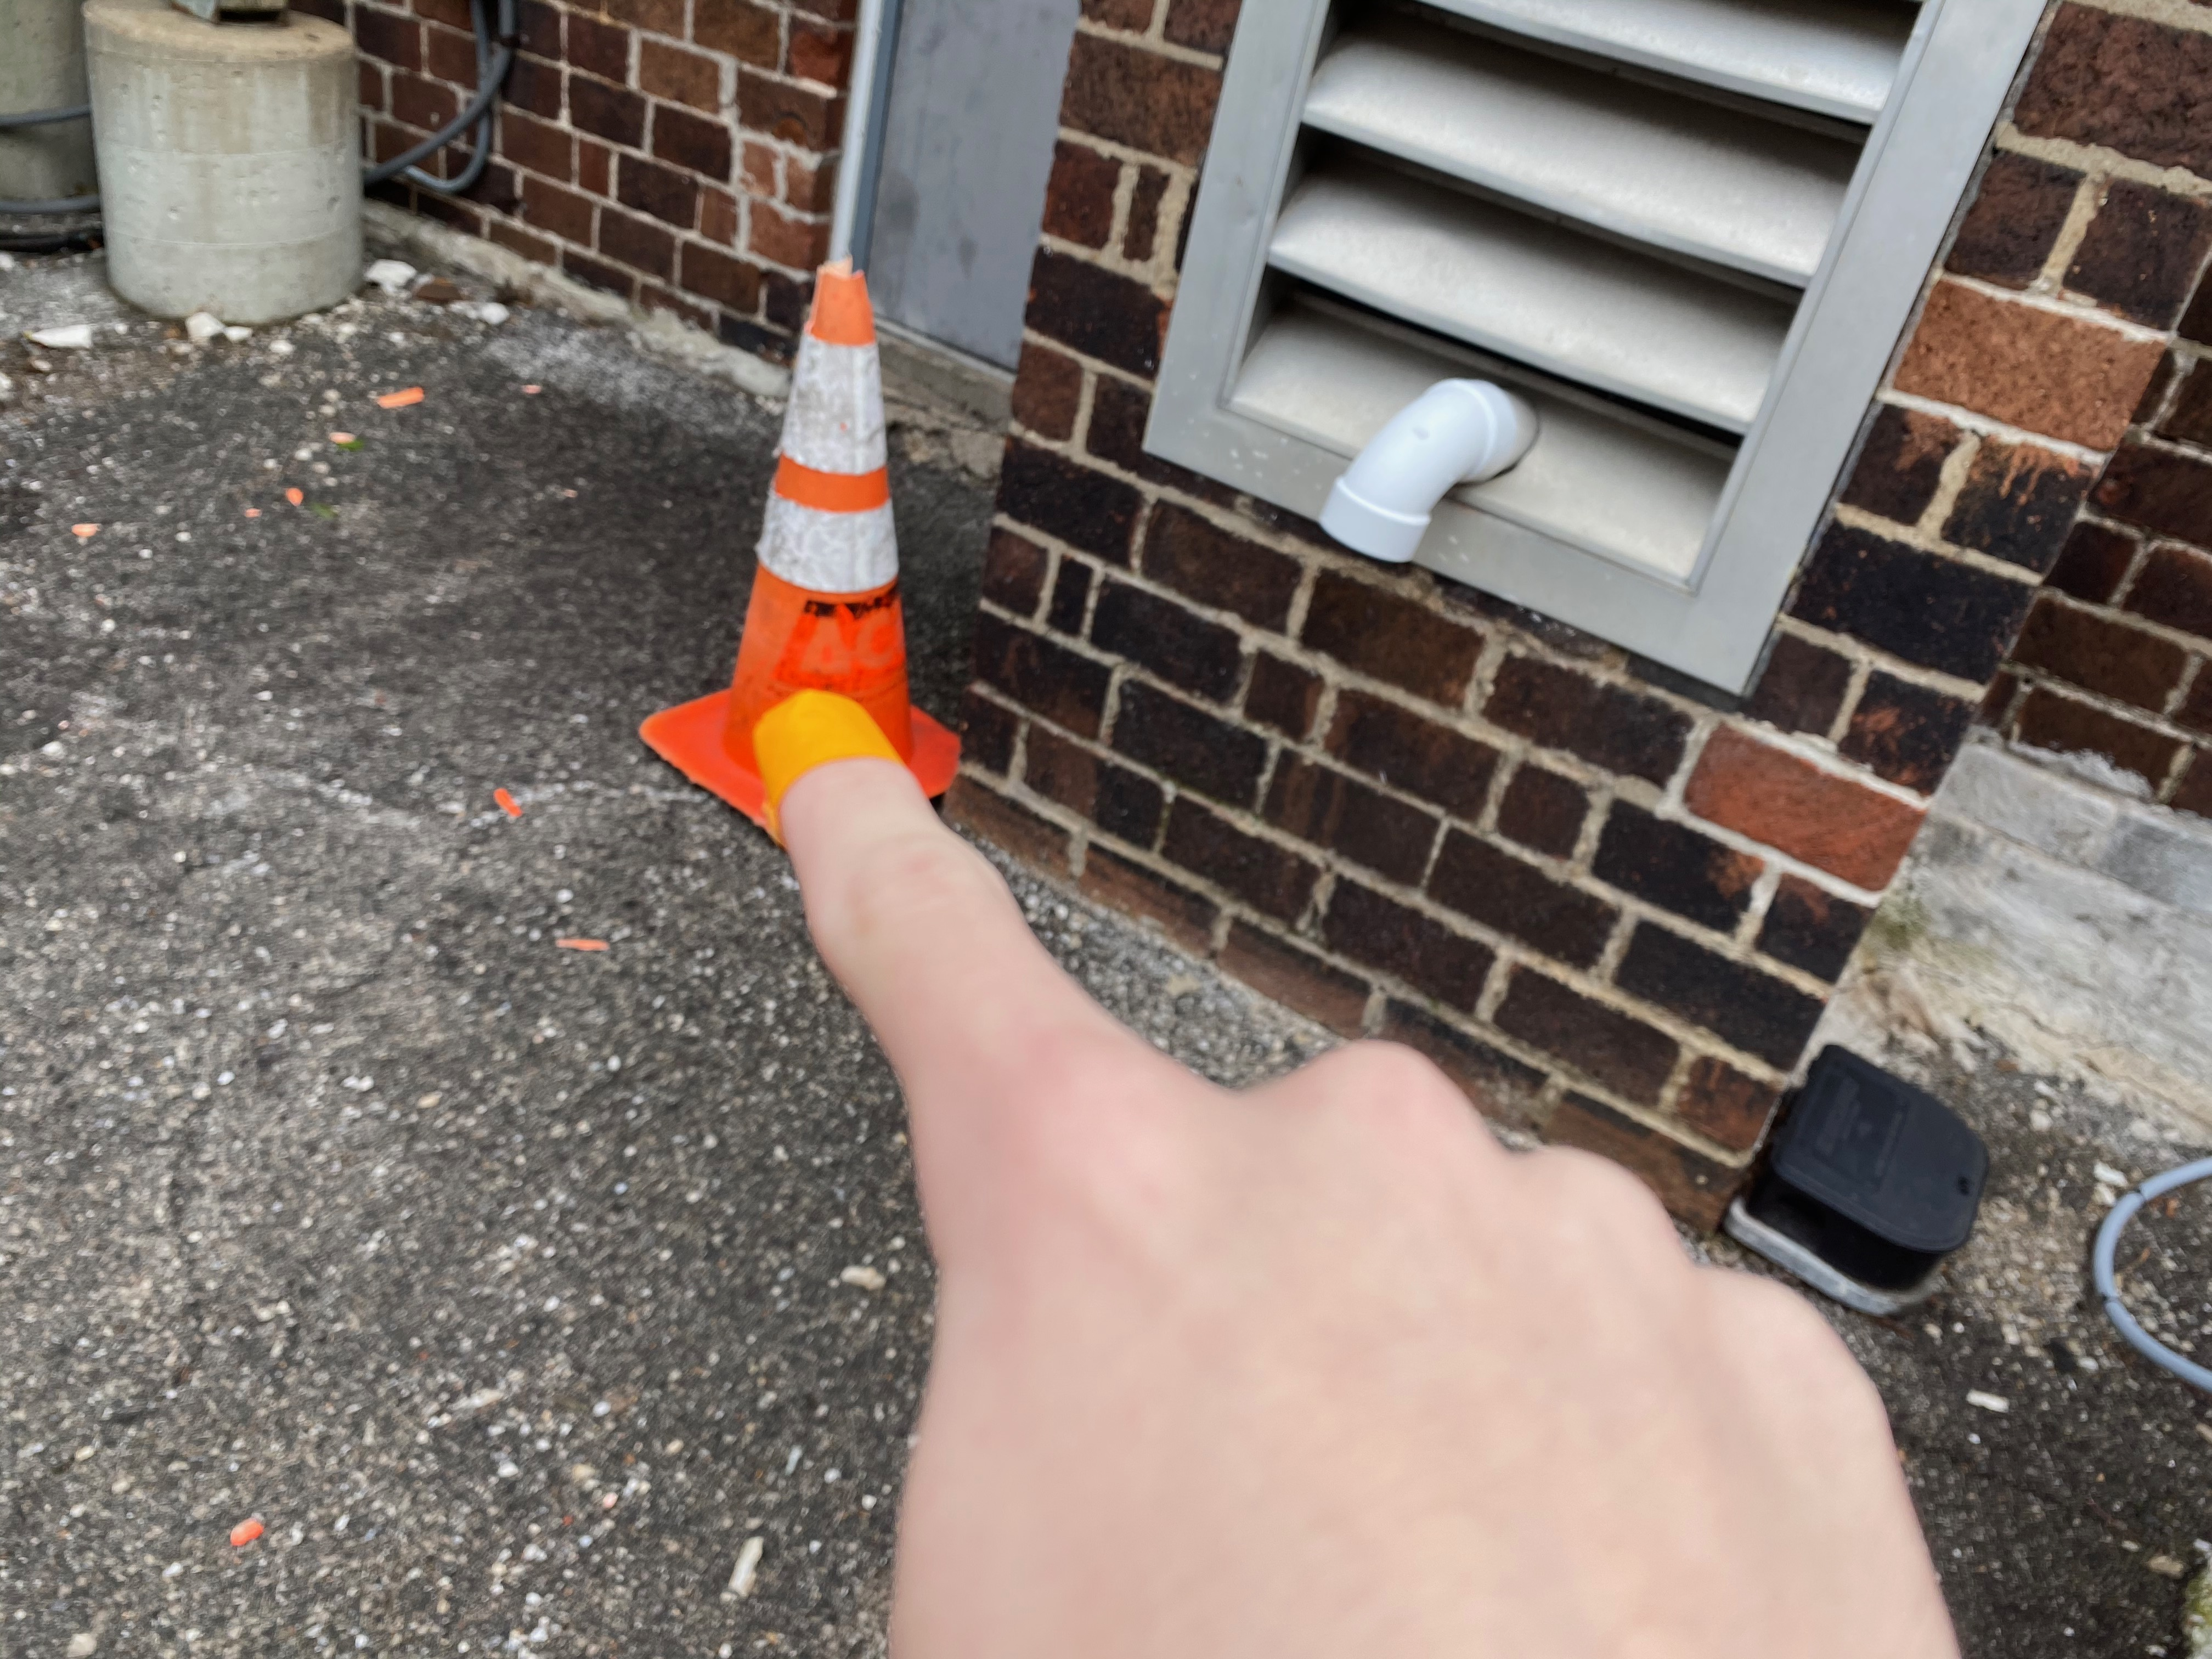fingertip: (732, 685, 892, 836)
